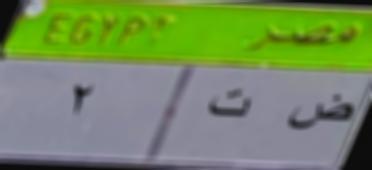2: (66, 80, 99, 120)
daad: (287, 84, 354, 136)
taa: (206, 83, 252, 128)
